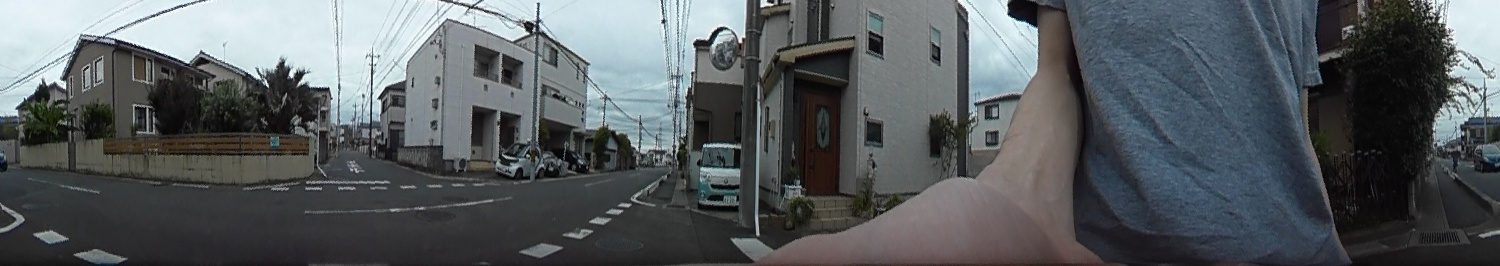difficult_person: (1450, 146, 1462, 171)
